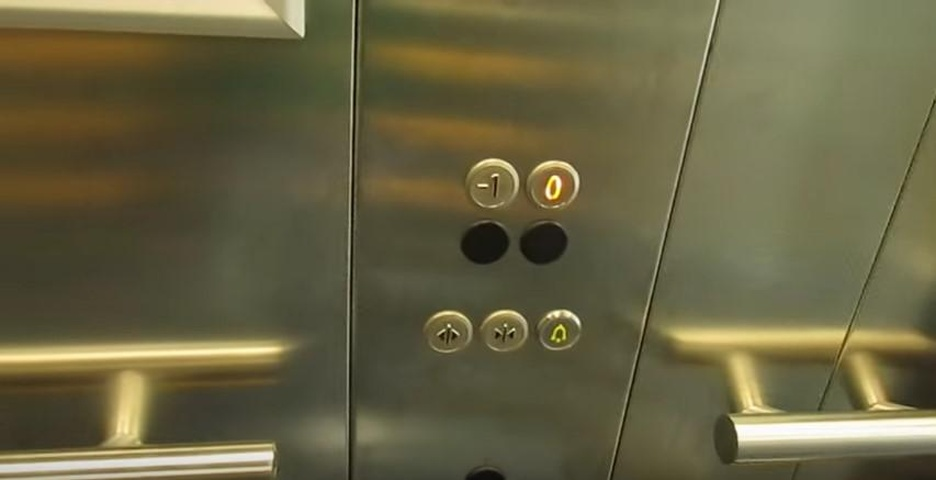-1: (464, 157, 521, 211)
0: (524, 159, 582, 211)
alarm: (534, 308, 585, 353)
close: (479, 308, 530, 355)
empty: (517, 218, 570, 267), (459, 218, 511, 266)
open: (423, 308, 473, 355)
